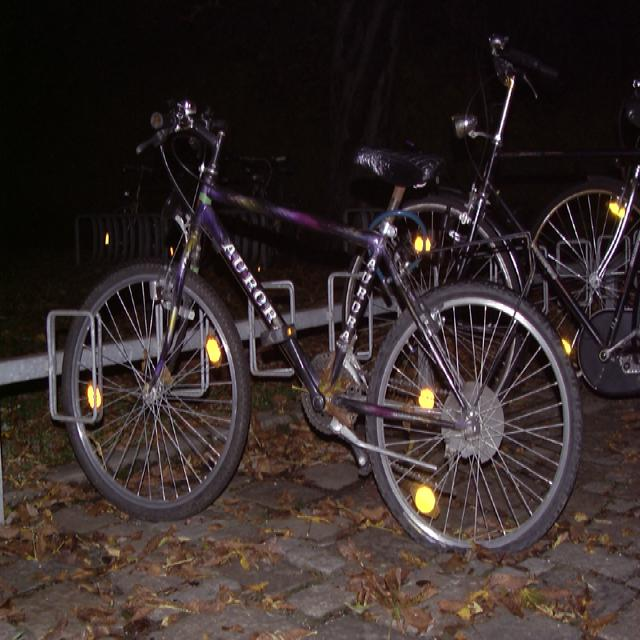bicycle: (46, 96, 583, 552)
